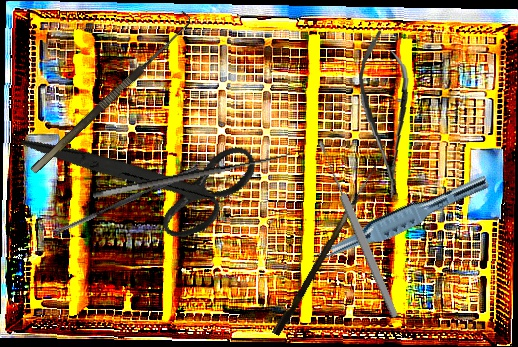Hook Surgical: (21, 9, 197, 175), (271, 152, 383, 338), (89, 137, 292, 201)
Iris Scissors: (20, 71, 271, 278)
Micro Scissor: (354, 28, 417, 201)
Surgical Spoon: (315, 138, 401, 321), (50, 164, 200, 237)
Tissue Forceps: (309, 165, 491, 274)
